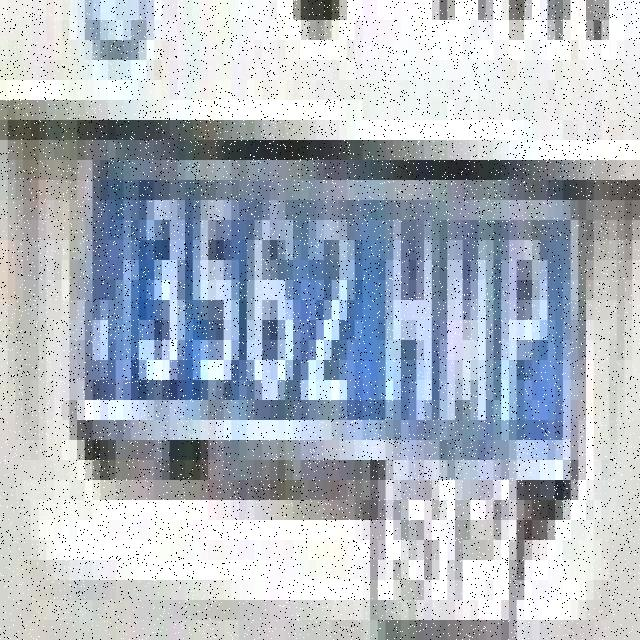licenseplate: (54, 68, 598, 538)
